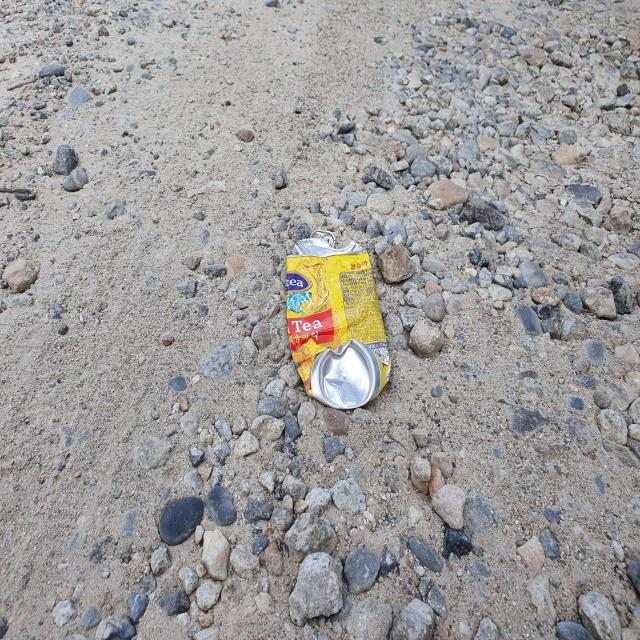can: (286, 230, 391, 410)
